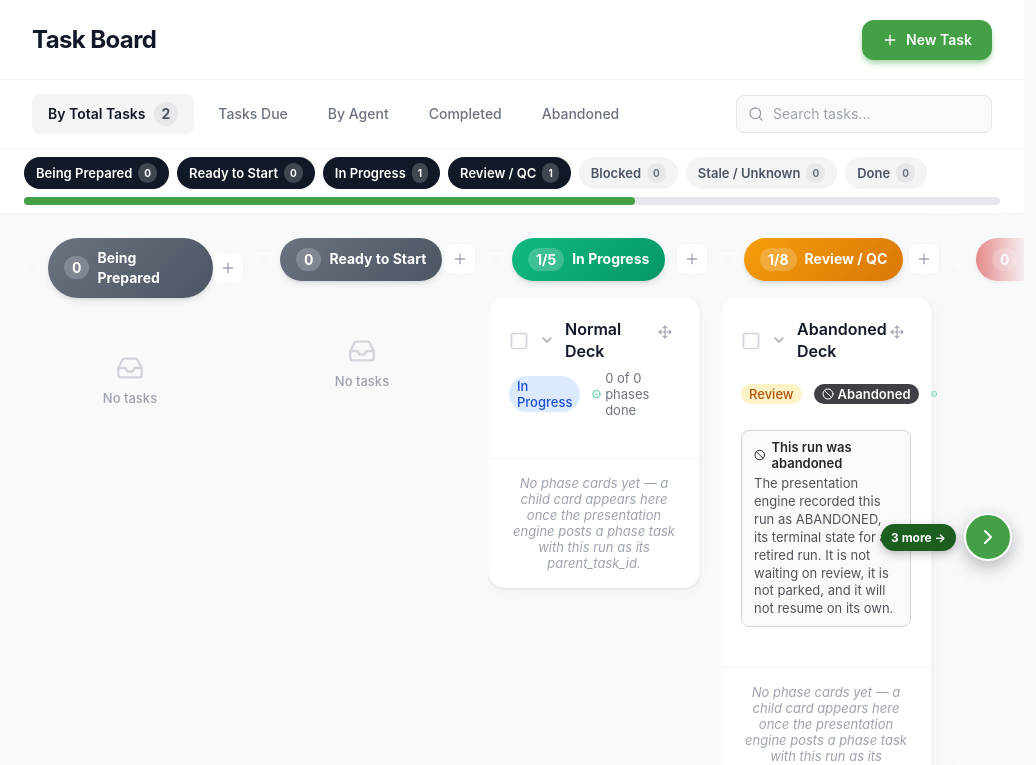
Test case: Item 19 — the Abandoned board filter › the Abandoned filter shows only the engine-ABANDONED run
Expected: the heading "Normal Deck" is shown, [565, 319, 621, 361]
Expected: the heading "Abandoned Deck" is shown, [797, 318, 875, 362]
Click the button "Abandoned" at (581, 114), box [526, 96, 635, 132]
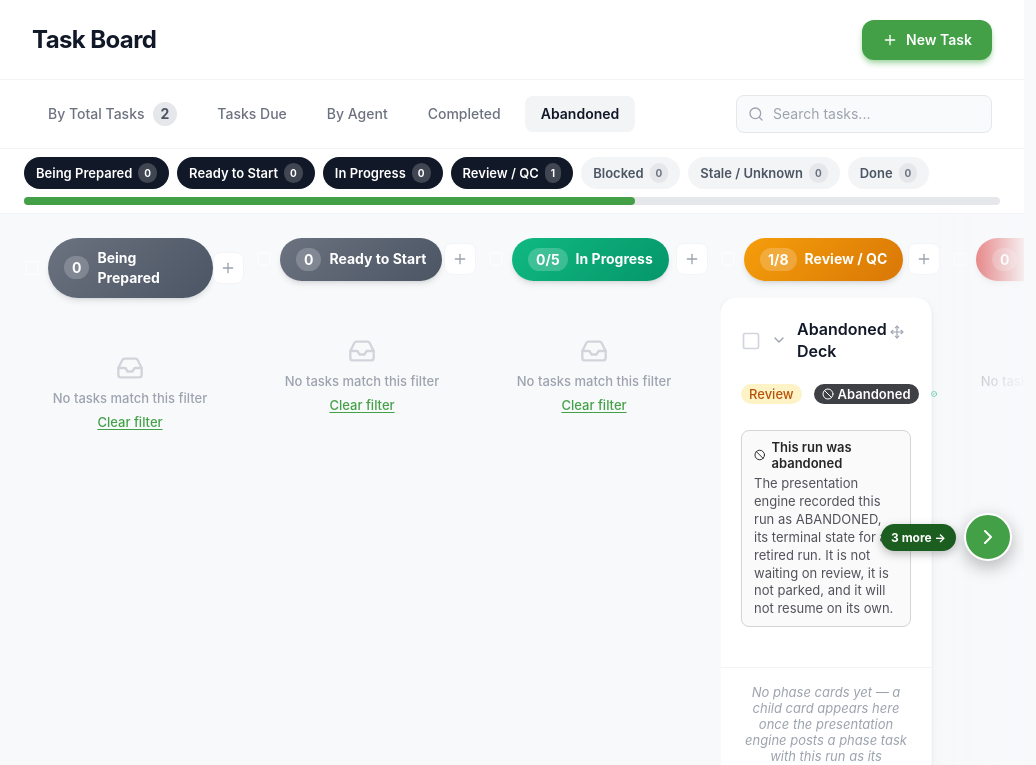
Expected: the heading "Abandoned Deck" is shown, [797, 318, 875, 362]
Expected: the heading "Normal Deck" is gone
